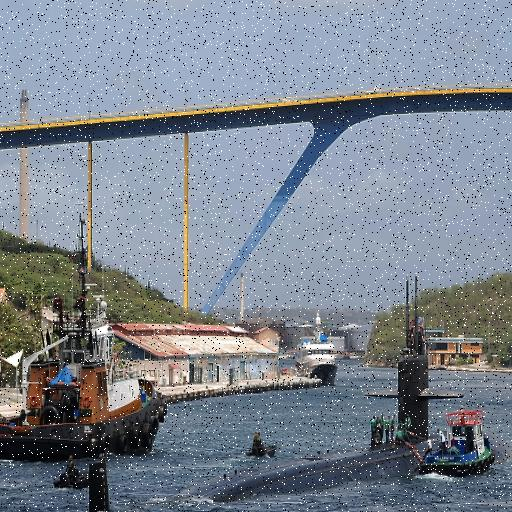submarine: (89, 355, 466, 512)
